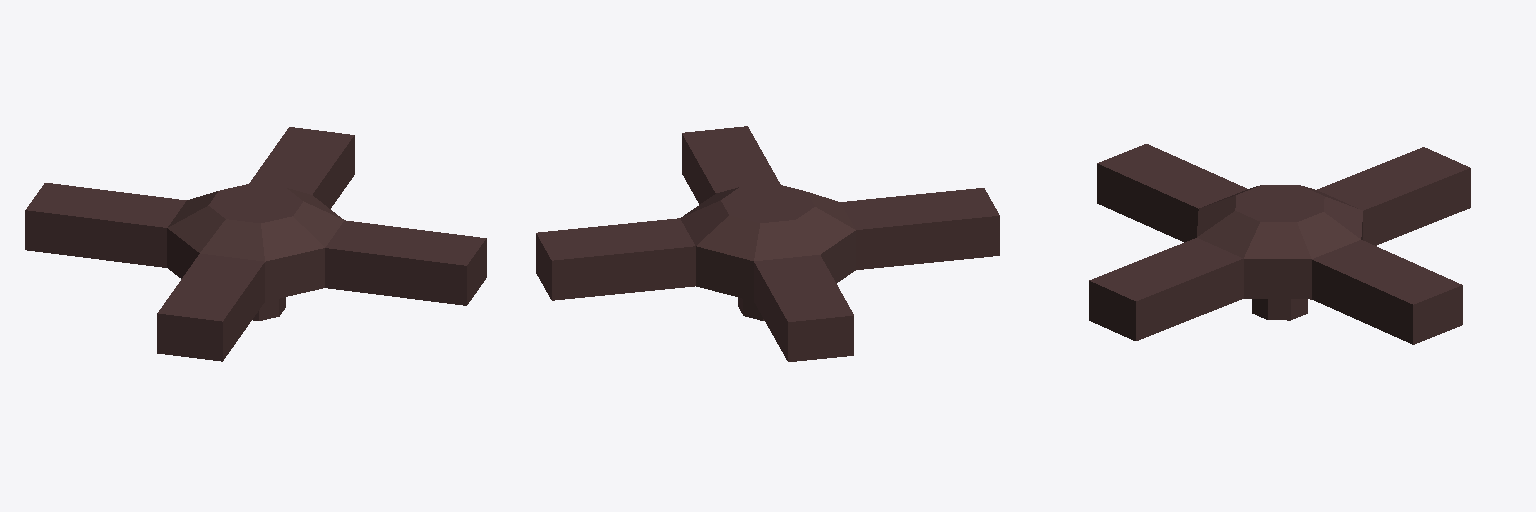
File: propeller.obj
3 renders of one model, left to right at view 1: azimuth 30°, elevation 25°; view 2: azimuth 150°, elevation 25°; view 3: azimuth 270°, elevation 25°, orthographic.
Parts seen in each view (by area): view 1: motor; view 2: motor; view 3: motor.
Part boxes in pixels (bbox=[...]): motor: bbox=[25, 127, 486, 361]; motor: bbox=[536, 126, 999, 361]; motor: bbox=[1089, 144, 1470, 344].
Size of the model in its own units: 0.7652 by 0.2326 by 0.7652.